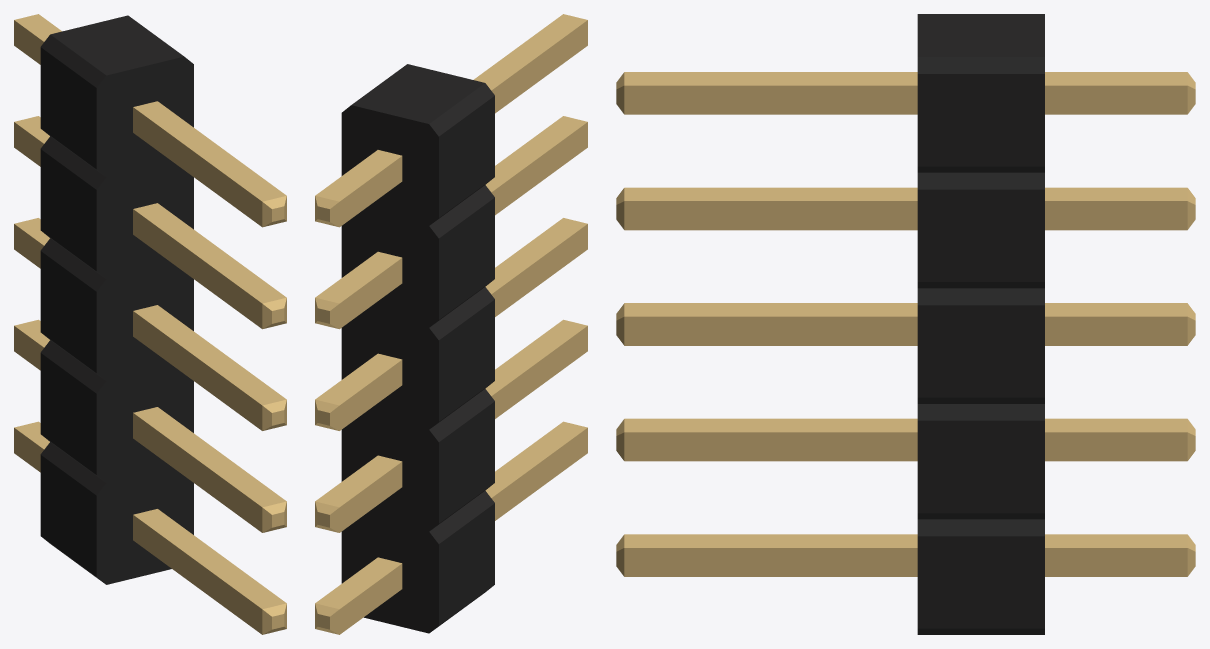
Rendered from header-1x05.glb.
3 renders of one model, left to right at view 1: azimuth 30°, elevation 25°; view 2: azimuth 150°, elevation 25°; view 3: azimuth 270°, elevation 25°, orthographic. The views are drawn at different scales.
Visible parts, largest first — view 1: IC-BODY-EPOXY-04, PIN-02; view 2: IC-BODY-EPOXY-04, PIN-02; view 3: PIN-02, IC-BODY-EPOXY-04.
Part boxes in pixels (<box>): IC-BODY-EPOXY-04: <box>40,15,193,584</box>; PIN-02: <box>14,14,286,634</box>; IC-BODY-EPOXY-04: <box>341,64,494,633</box>; PIN-02: <box>315,14,587,634</box>; PIN-02: <box>616,72,1195,576</box>; IC-BODY-EPOXY-04: <box>917,14,1044,634</box>.
Size of the model in its own units: 2.54 by 12.7 by 11.54.
